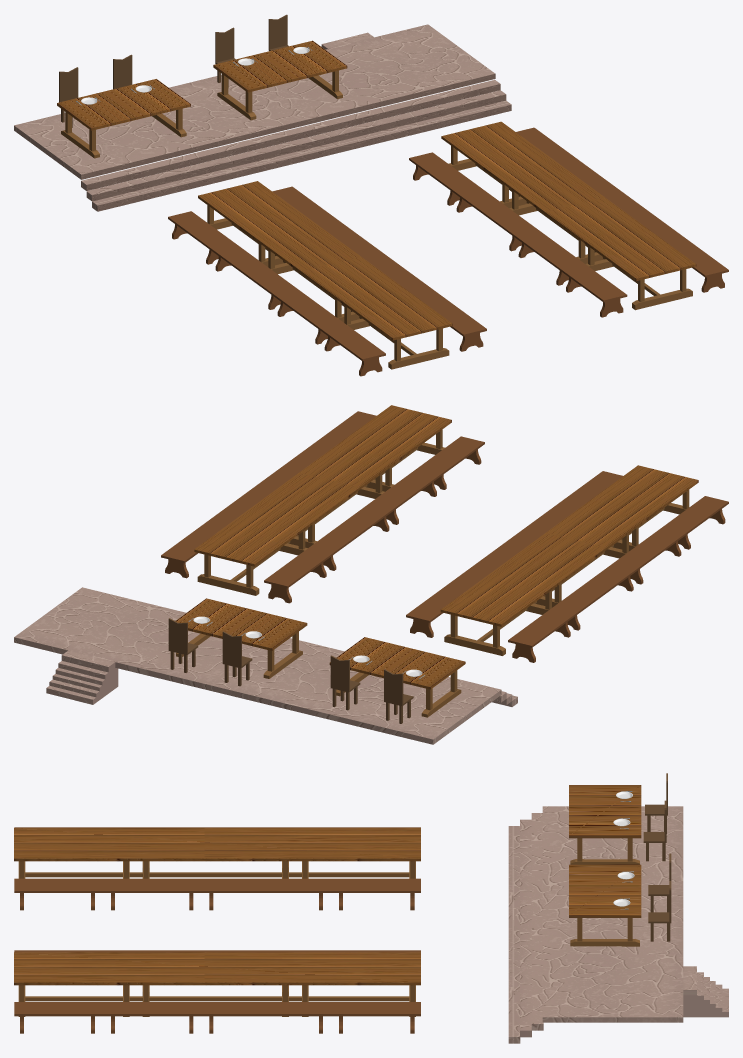
The model's file is Cantina.fbx.
The picture shows the model from 3 angles, top to bottom: view 1: azimuth 30°, elevation 25°; view 2: azimuth 150°, elevation 25°; view 3: azimuth 270°, elevation 25°; orthographic projection. The views are drawn at different scales.
Visible parts, largest first — view 1: Cantina; view 2: Cantina; view 3: Cantina.
Boxes of the visible parts, left/top/right/bottom form: Cantina: left=14, top=14, right=728, bottom=376; Cantina: left=14, top=405, right=728, bottom=744; Cantina: left=14, top=773, right=728, bottom=1043.
Bounding box in the file's own units: 272 × 47.98 × 389.
